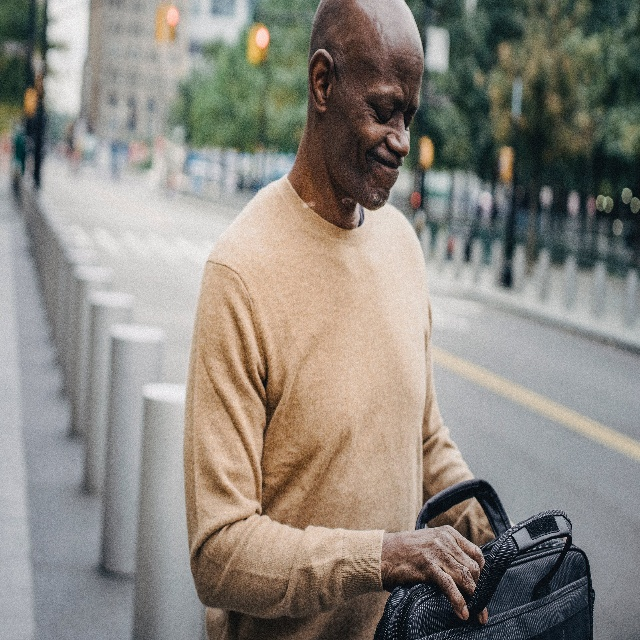Sin_guantes: (383, 523, 492, 626)
